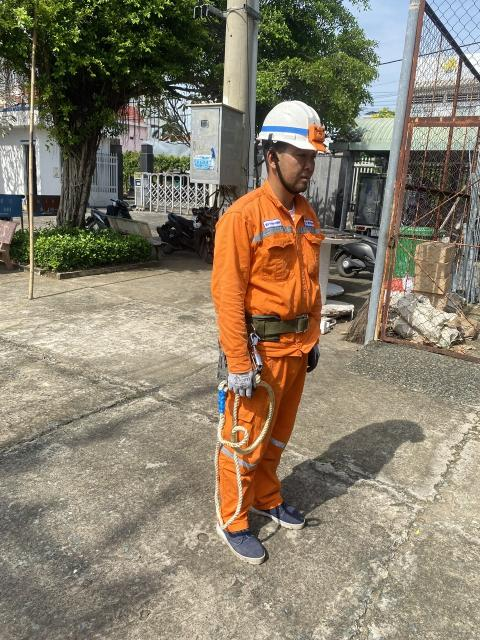gloves: (213, 359, 262, 403), (305, 341, 333, 387)
harness: (217, 308, 331, 339)
helmet: (244, 92, 343, 167)
shoes: (194, 507, 276, 576), (245, 484, 315, 537)
